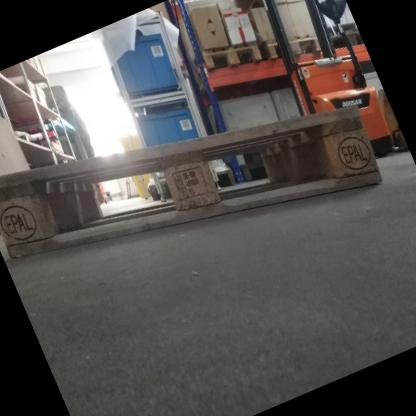BoxFace: (0, 98, 388, 263)
